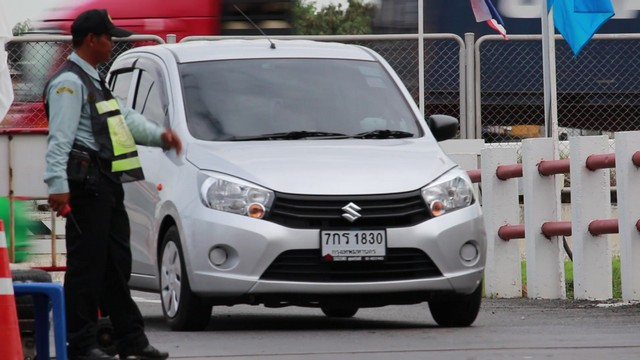in: (323, 230, 384, 257)
out: (320, 226, 388, 262)
